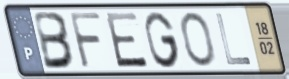B: (32, 10, 77, 72)
E: (102, 10, 151, 70)
F: (67, 10, 105, 71)
G: (143, 10, 183, 70)
L: (213, 11, 254, 67)
O: (179, 10, 218, 69)
